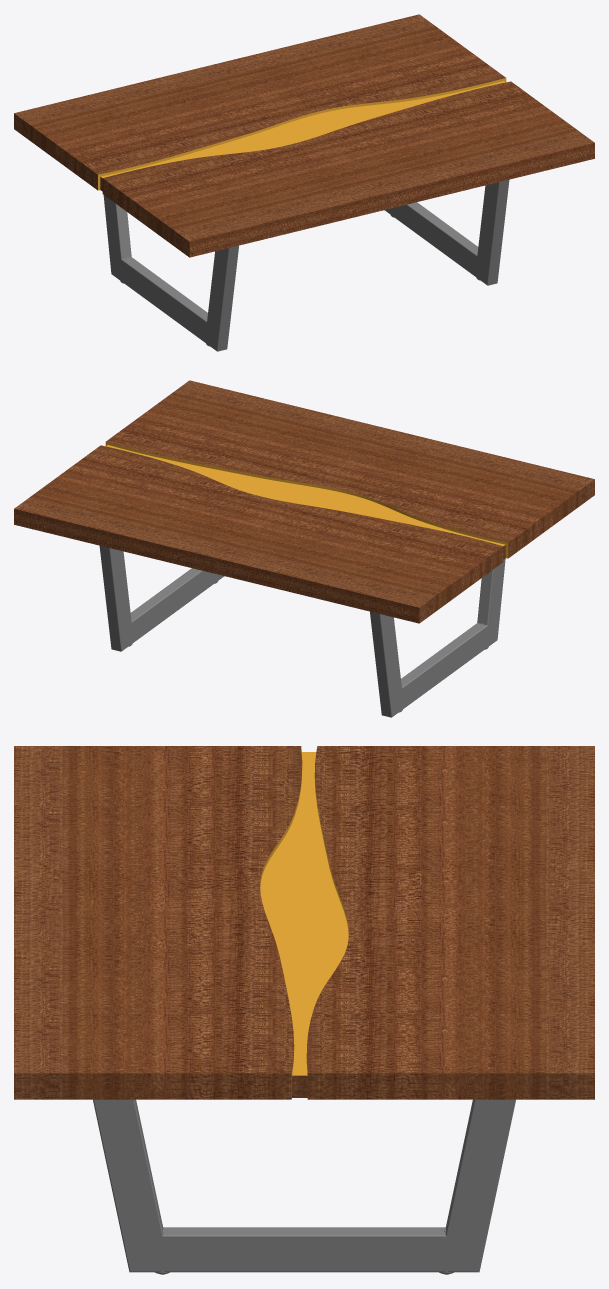
The model's file is IFD4851CKT-mwld5909.glb.
3 views of the same model, one above another, from view 1: azimuth 30°, elevation 25°; view 2: azimuth 150°, elevation 25°; view 3: azimuth 270°, elevation 25° (orthographic). The views are drawn at different scales.
Visible parts, largest first — view 1: IFD4854CKT - CUBIERTA-2, IFD4854CKT - CUBIERTA-1, IFD4851CKT - PATA-1, IFD4851CKT; view 2: IFD4854CKT - CUBIERTA-1, IFD4854CKT - CUBIERTA-2, IFD4851CKT - PATA-1, IFD4851CKT; view 3: IFD4854CKT - CUBIERTA-2, IFD4854CKT - CUBIERTA-1, IFD4851CKT.
Part boxes in pixels (x1,y1,x2,y2): IFD4854CKT - CUBIERTA-2: (102,81,594,257); IFD4854CKT - CUBIERTA-1: (14,14,506,191); IFD4851CKT - PATA-1: (103,195,238,351); IFD4851CKT: (384,180,509,285); IFD4854CKT - CUBIERTA-1: (14,445,504,623); IFD4854CKT - CUBIERTA-2: (105,380,594,558); IFD4851CKT - PATA-1: (370,558,505,717); IFD4851CKT: (99,546,224,651); IFD4854CKT - CUBIERTA-2: (14,746,304,1099); IFD4854CKT - CUBIERTA-1: (304,746,594,1099); IFD4851CKT: (93,1099,515,1274).
Size of the model in its own units: 1.2 by 0.4365 by 0.9.
9 materials, 1 textured.
